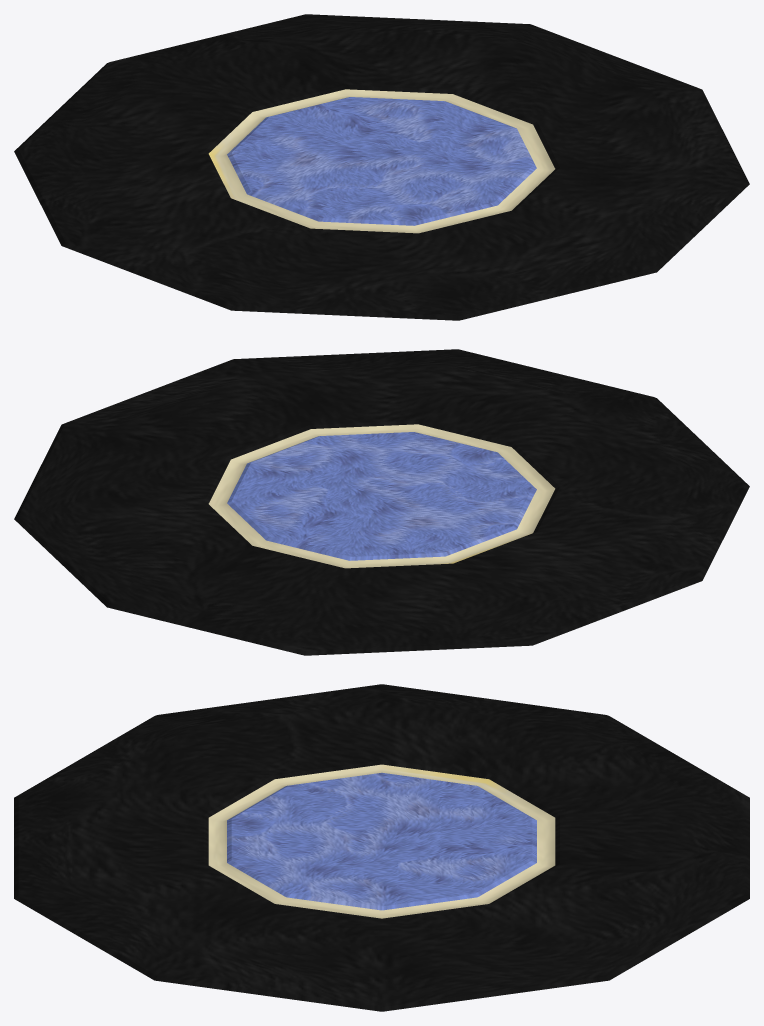
Rendered from Circular_Carpet_04_E.FBX.
3 views of the same model, one above another, from view 1: azimuth 30°, elevation 25°; view 2: azimuth 150°, elevation 25°; view 3: azimuth 270°, elevation 25° (orthographic). The views are drawn at different scales.
Visible parts, largest first — view 1: Circular_Carpet; view 2: Circular_Carpet; view 3: Circular_Carpet.
Boxes of the visible parts, bbox=[...] form: Circular_Carpet: bbox=[14, 14, 749, 320]; Circular_Carpet: bbox=[14, 349, 749, 655]; Circular_Carpet: bbox=[14, 684, 749, 1011].
Size of the model in its own units: 316 by 4.05 by 300.
